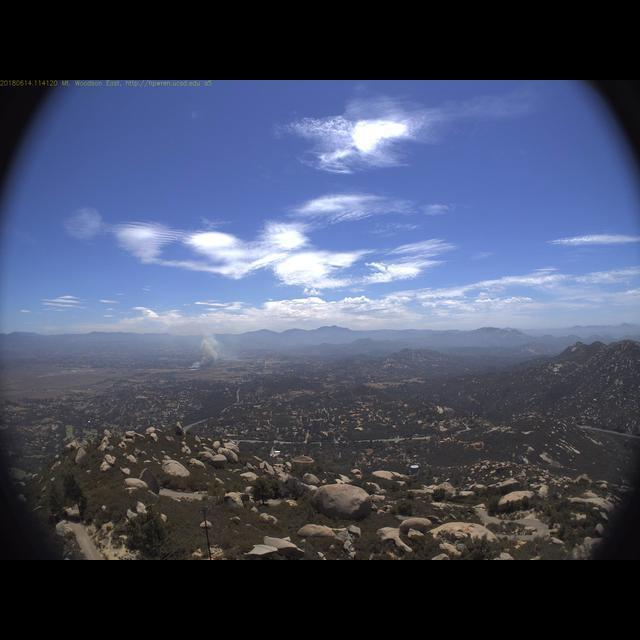Smoke: (182, 324, 242, 376)
